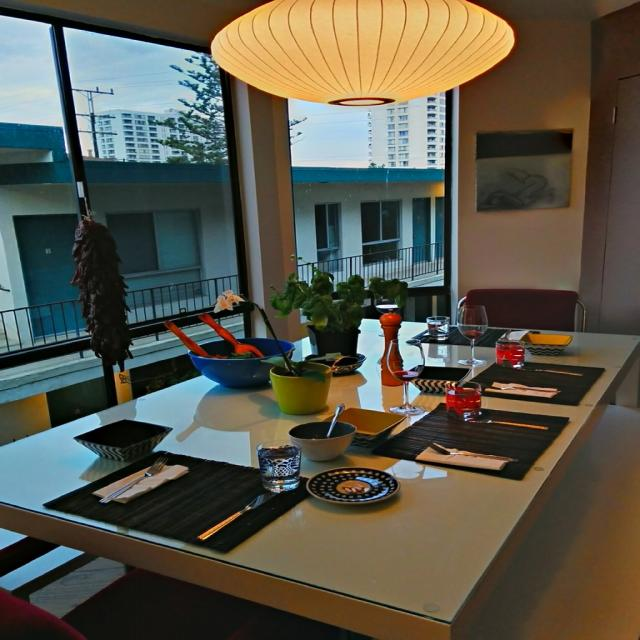chair: (458, 288, 586, 332)
desk: (0, 322, 630, 630)
